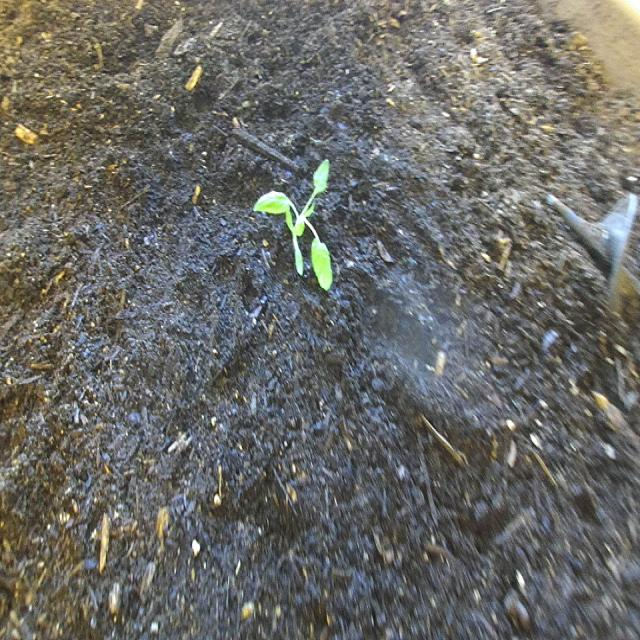Healthy: (241, 140, 356, 314)
